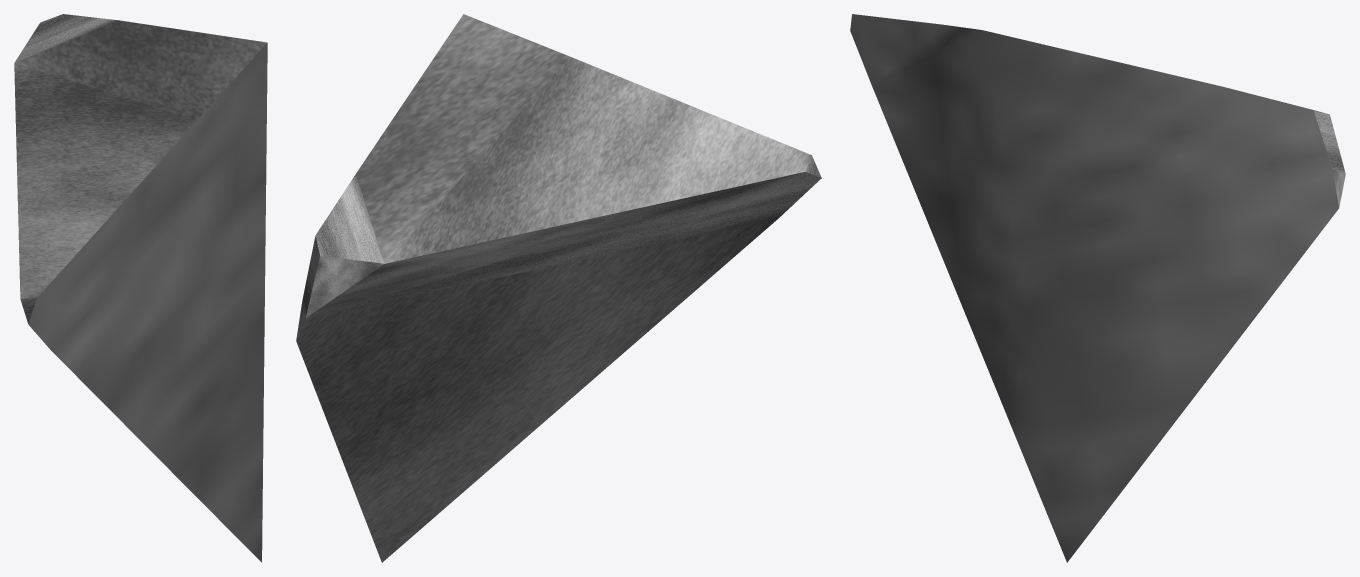
File: leg_4_cell_007.fbx
3 renders of one model, left to right at view 1: azimuth 30°, elevation 25°; view 2: azimuth 150°, elevation 25°; view 3: azimuth 270°, elevation 25°, orthographic. The views are drawn at different scales.
Parts seen in each view (by area): view 1: leg_4_cell.007; view 2: leg_4_cell.007; view 3: leg_4_cell.007.
Boxes of the visible parts, left/top/right/bottom form: leg_4_cell.007: left=14, top=14, right=267, bottom=562; leg_4_cell.007: left=296, top=14, right=821, bottom=562; leg_4_cell.007: left=850, top=14, right=1345, bottom=562.
Size of the model in its own units: 9.41 by 14.39 by 12.56.
